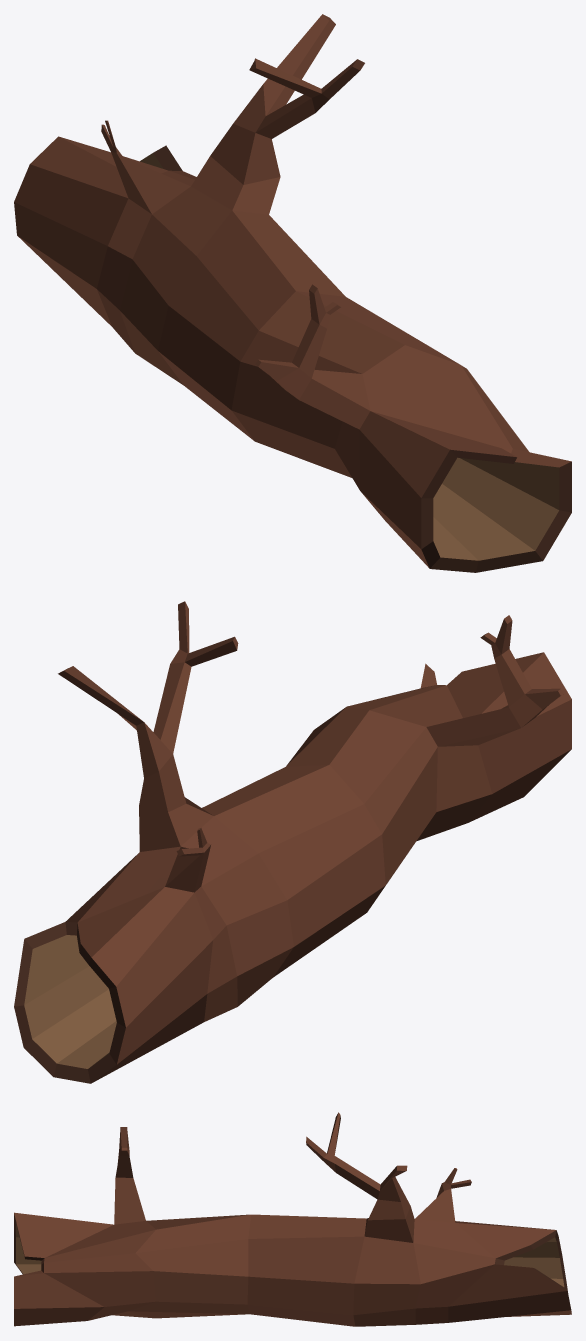
Rendered from Log_03.fbx.
3 renders of one model, top to bottom at view 1: azimuth 30°, elevation 25°; view 2: azimuth 150°, elevation 25°; view 3: azimuth 270°, elevation 25°, orthographic. The views are drawn at different scales.
Parts seen in each view (by area): view 1: Log_03; view 2: Log_03; view 3: Log_03.
Part boxes in pixels (x1,y1,x2,y2): Log_03: (14,14,571,572); Log_03: (14,601,571,1083); Log_03: (14,1112,571,1326).
Bounding box in the file's own units: 82.01 × 90.01 × 212.
